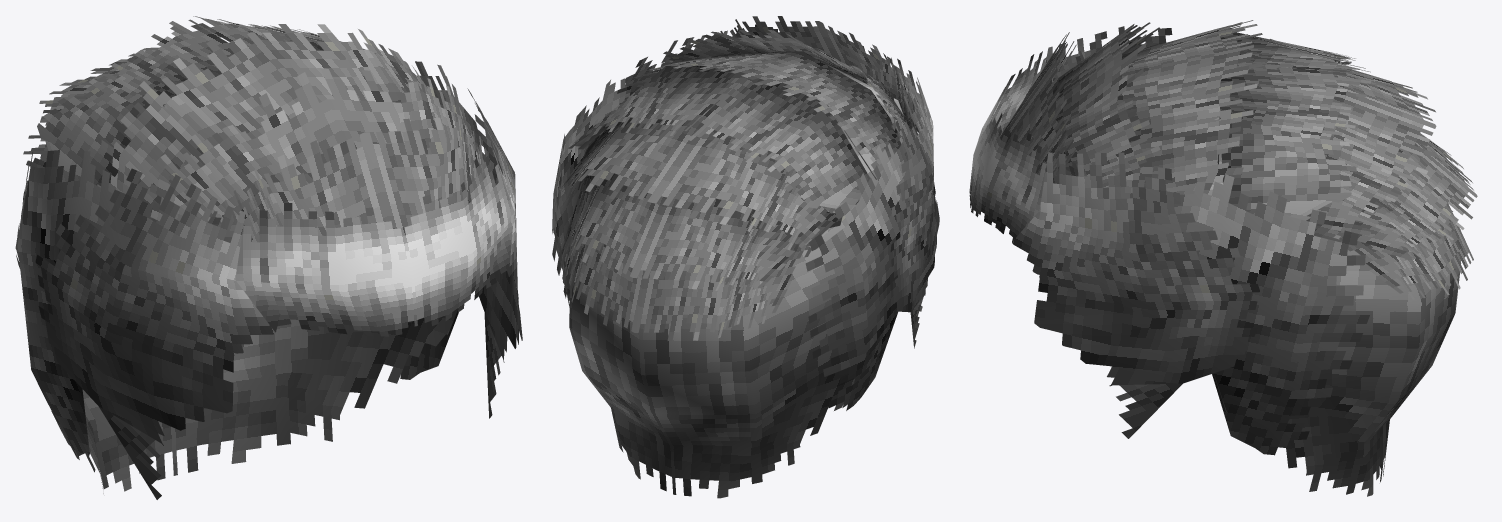
Rendered from f_hair008.obj.
3 views of the same model, side by side, from view 1: azimuth 30°, elevation 25°; view 2: azimuth 150°, elevation 25°; view 3: azimuth 270°, elevation 25° (orthographic). The views are drawn at different scales.
Parts seen in each view (by area): view 1: editpl_f-0000-1910; view 2: editpl_f-0000-1910; view 3: editpl_f-0000-1910.
Part boxes in pixels (x1,y1,x2,y2): editpl_f-0000-1910: [15, 16, 522, 499]; editpl_f-0000-1910: [552, 16, 939, 498]; editpl_f-0000-1910: [969, 20, 1477, 496].
Size of the model in its own units: 19.22 by 22.46 by 23.38.
